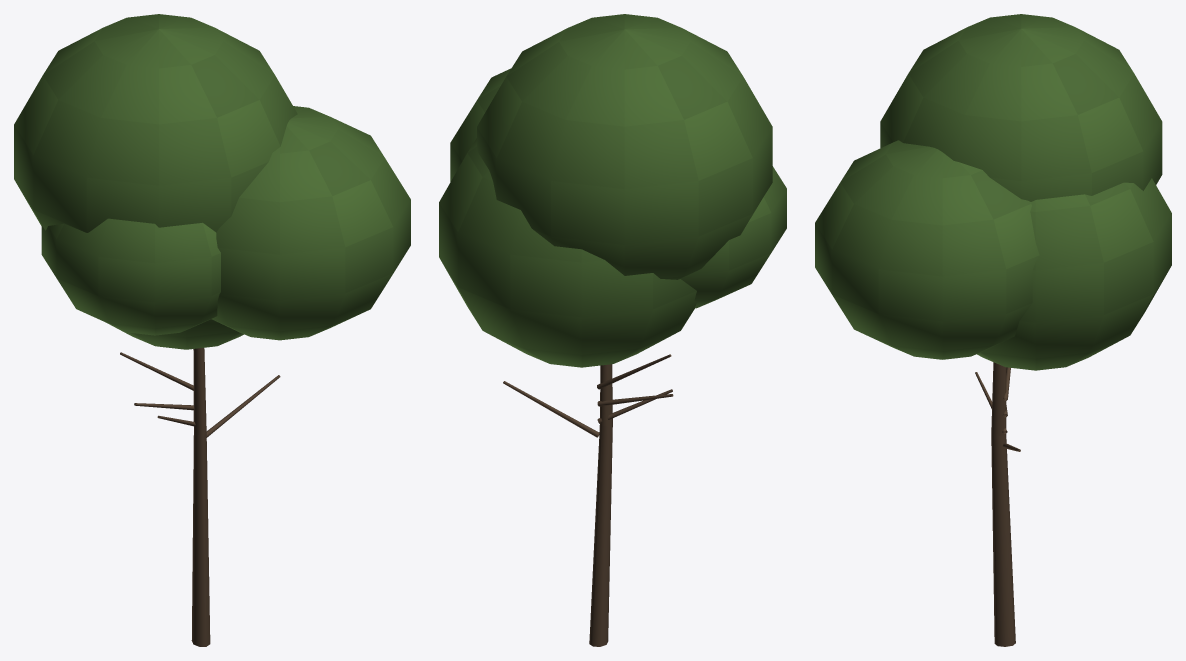
The model's file is tree_c.glb.
3 renders of one model, left to right at view 1: azimuth 30°, elevation 25°; view 2: azimuth 150°, elevation 25°; view 3: azimuth 270°, elevation 25°, orthographic. The views are drawn at different scales.
Parts seen in each view (by area): view 1: tree_c; view 2: tree_c; view 3: tree_c.
Boxes of the visible parts, <box> form: tree_c: <box>14,14,410,646</box>; tree_c: <box>439,14,786,646</box>; tree_c: <box>815,14,1171,646</box>.
Size of the model in its own units: 6.72 by 12.39 by 6.69.
Materials: 2 (2 with a texture image).
